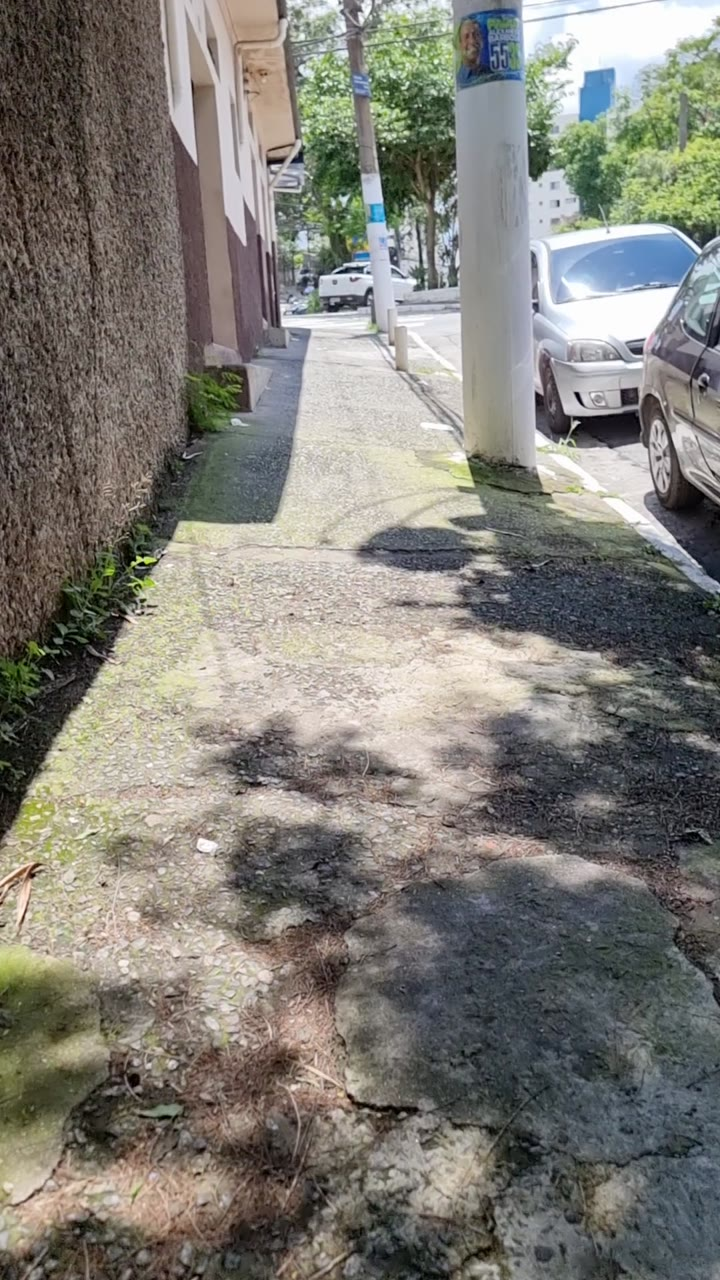obstaculo: (454, 0, 526, 474)
